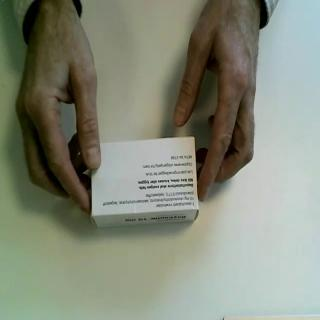oxycontin10mg: (90, 136, 201, 230)
